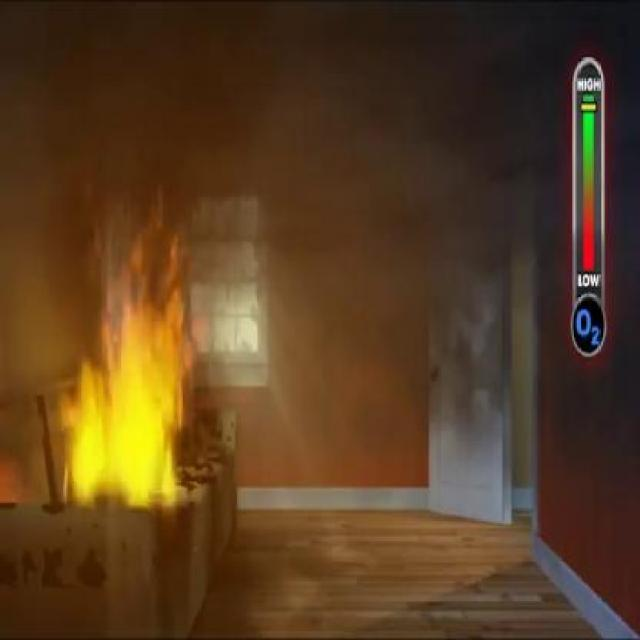fire: (57, 288, 186, 500)
smoke: (1, 2, 414, 210)
